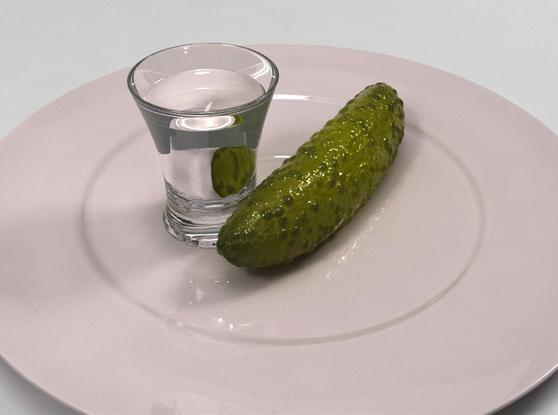cucumber: (221, 83, 403, 270)
